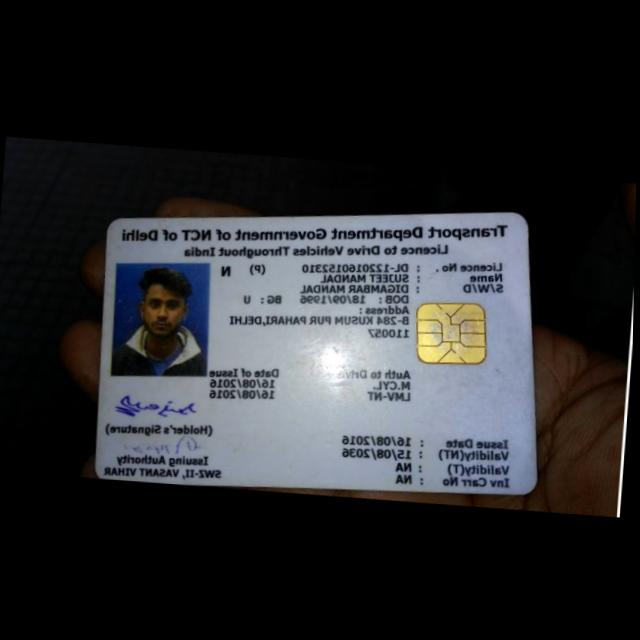driving_licence: (85, 177, 569, 510)
